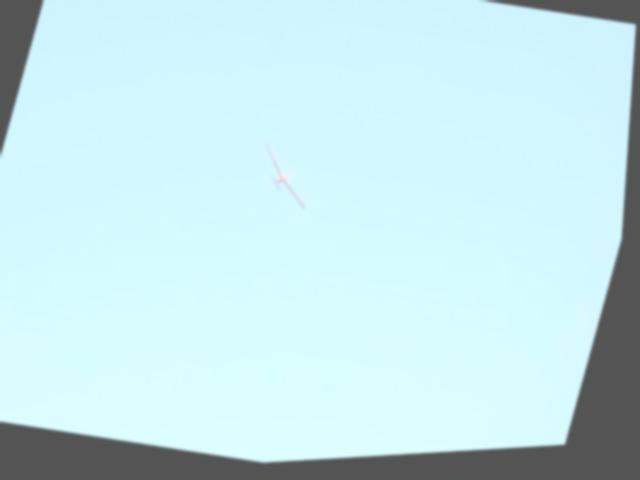iha: (253, 145, 322, 216)
